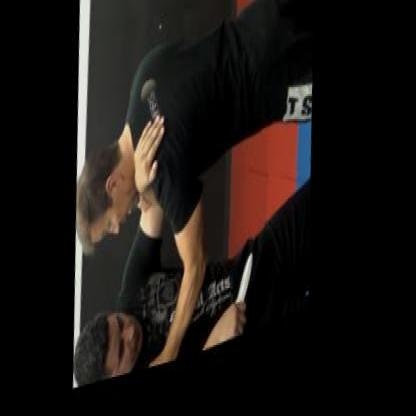knife: (224, 260, 264, 354)
